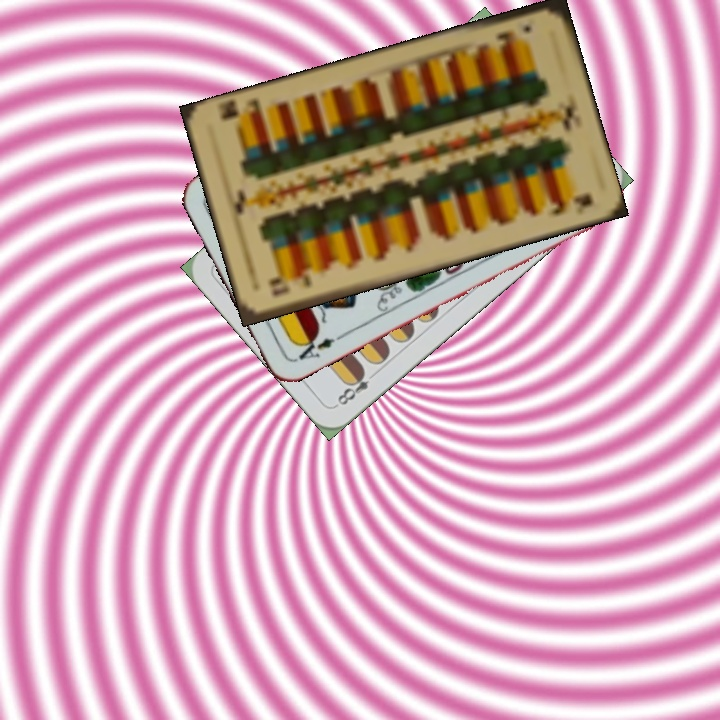E10: (266, 271, 313, 299), (491, 21, 535, 50)
E8: (331, 365, 381, 409)
EA: (292, 330, 346, 363)
